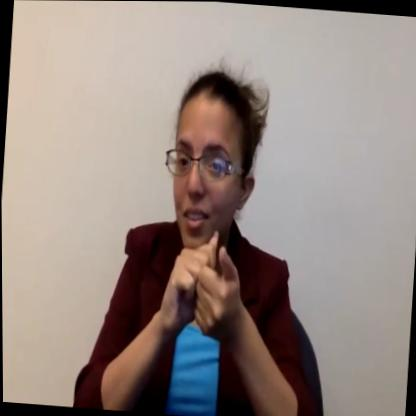HowAreYou: (157, 222, 243, 363)
